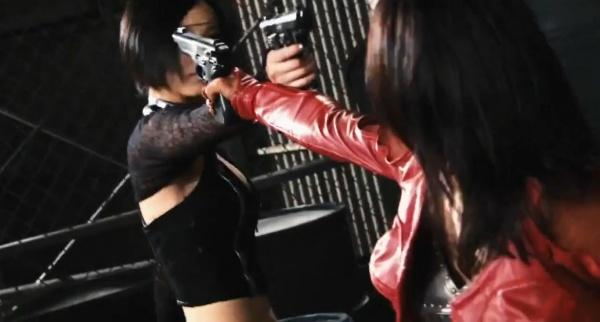Gun: (172, 27, 235, 123), (258, 5, 315, 61)
